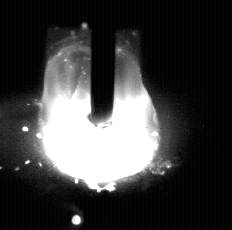arame: (88, 0, 116, 129)
poca: (35, 0, 160, 230)
